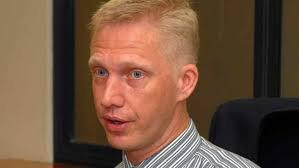Drunk: (91, 25, 174, 148)
